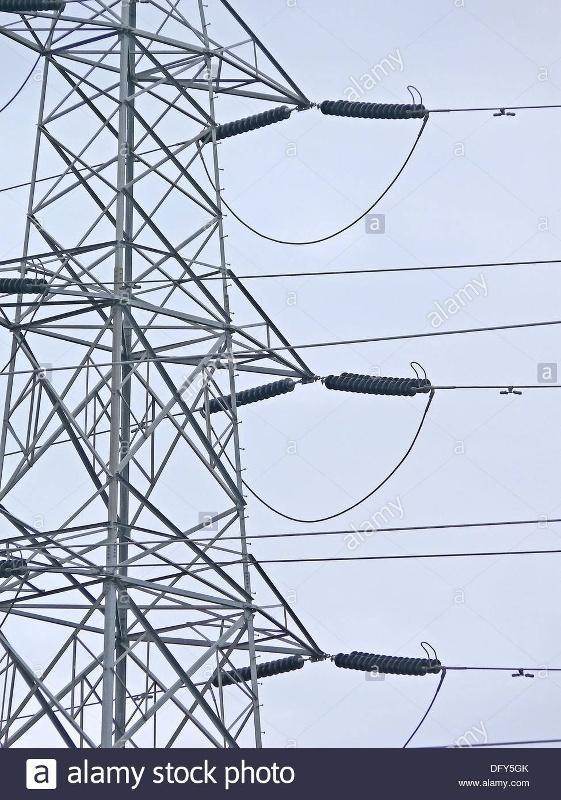power_tower: (0, 0, 445, 747)
